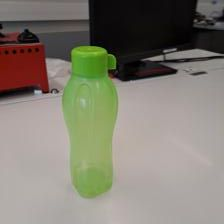bottle: (60, 43, 119, 195)
